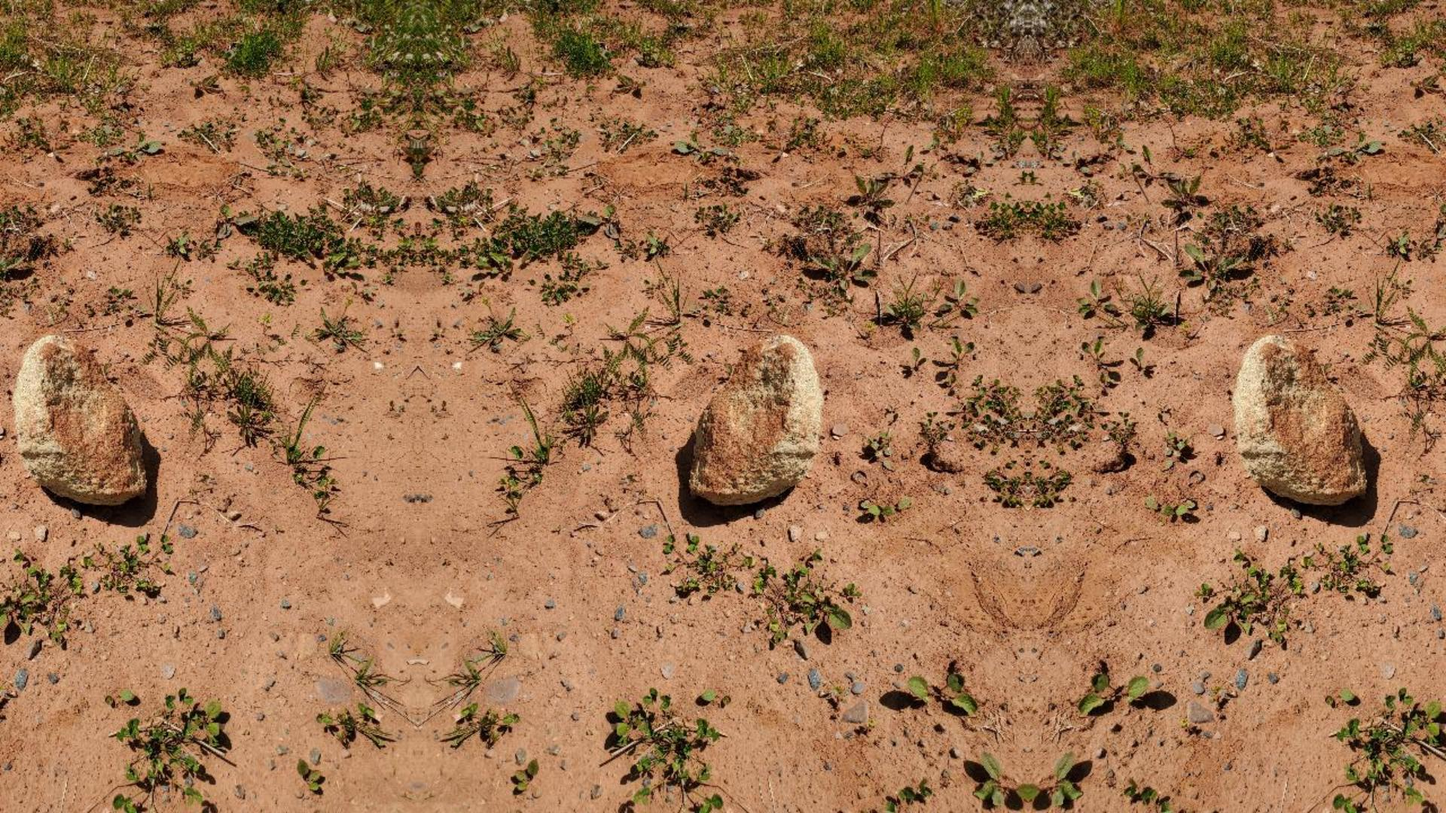rock: (12, 335, 147, 505), (1232, 335, 1366, 505), (689, 335, 822, 505), (923, 440, 962, 473), (1092, 440, 1129, 473)
